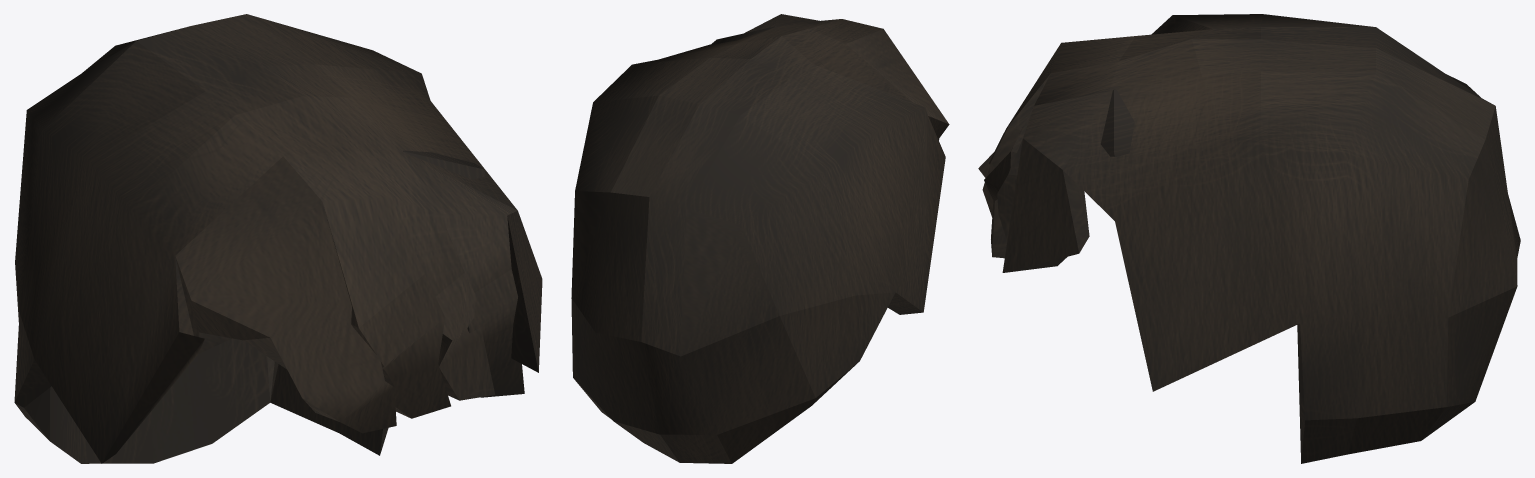
File: Hair.fbx
3 renders of one model, left to right at view 1: azimuth 30°, elevation 25°; view 2: azimuth 150°, elevation 25°; view 3: azimuth 270°, elevation 25°, orthographic. The views are drawn at different scales.
Visible parts, largest first — view 1: Hair6; view 2: Hair6; view 3: Hair6.
Part boxes in pixels (x1=…): Hair6: x1=14, y1=14, x2=542, y2=463; Hair6: x1=571, y1=14, x2=949, y2=463; Hair6: x1=978, y1=14, x2=1520, y2=463.
Bounding box in the file's own units: 15.03 × 16.45 × 20.71.
Materials: 1 (1 with a texture image).
